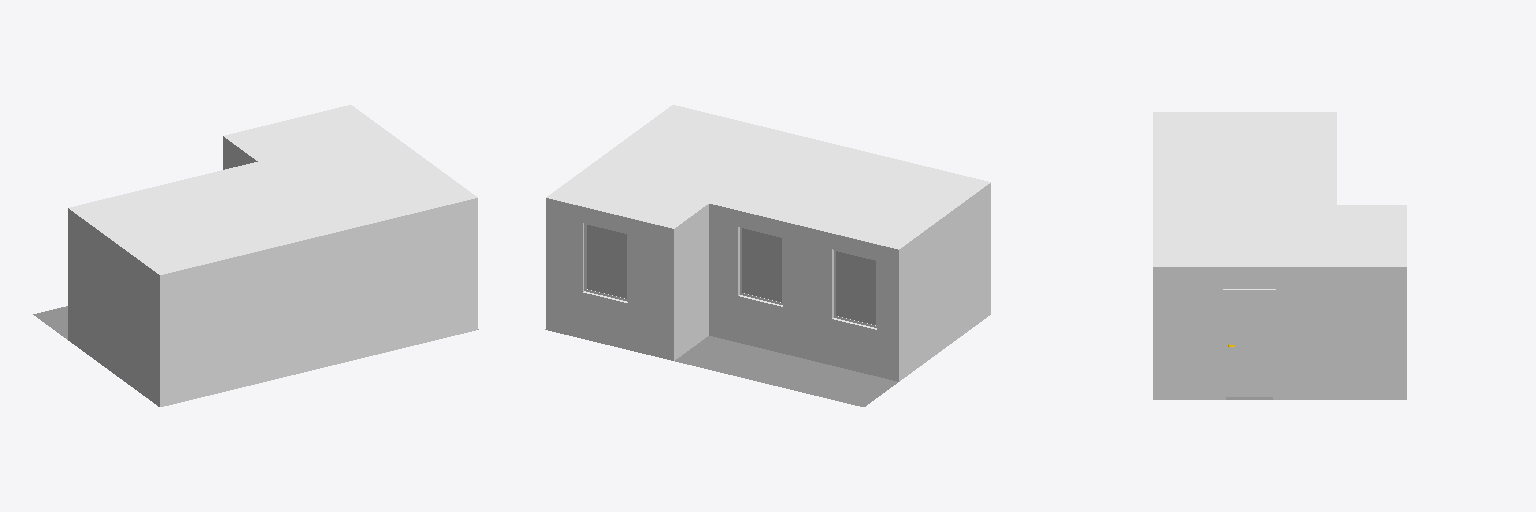
The model's file is all_0303_V1.obj.
3 views of the same model, side by side, from view 1: azimuth 30°, elevation 25°; view 2: azimuth 150°, elevation 25°; view 3: azimuth 270°, elevation 25° (orthographic).
Parts seen in each view (by area): view 1: wall_3_17, room_7_39, wall_2_11, wall_3_19, ground_1, wall_6_35; view 2: room_7_39, wall_1_5, wall_5_29, wall_2_11, ground_1, wall_6_35, sweethome3d_window_pane_49, sweethome3d_window_pane_52, sweethome3d_window_pane_55, wall_3_19; view 3: room_7_39, wall_4_23, Porte_44, Montant_45, wall_3_19.
Boxes of the visible parts, box(x1,y1,x2,y2) form: wall_3_17: box(160, 198, 477, 406); room_7_39: box(79, 108, 466, 272); wall_2_11: box(68, 208, 159, 406); wall_3_19: box(161, 197, 475, 274); ground_1: box(33, 306, 478, 339); wall_6_35: box(223, 136, 257, 169); room_7_39: box(555, 108, 983, 246); wall_1_5: box(709, 204, 898, 381); wall_5_29: box(546, 198, 673, 360); wall_2_11: box(899, 183, 990, 381); ground_1: box(545, 329, 897, 406); wall_6_35: box(674, 204, 708, 360); sweethome3d_window_pane_49: box(587, 225, 626, 298); sweethome3d_window_pane_52: box(742, 228, 781, 302); sweethome3d_window_pane_55: box(836, 251, 875, 324); wall_3_19: box(673, 105, 988, 182); room_7_39: box(1157, 115, 1401, 264); wall_4_23: box(1153, 267, 1406, 399); Porte_44: box(1226, 293, 1272, 396); Montant_45: box(1223, 289, 1275, 399); wall_3_19: box(1153, 112, 1156, 266).
Size of the model in its own units: 632 by 250 by 436.